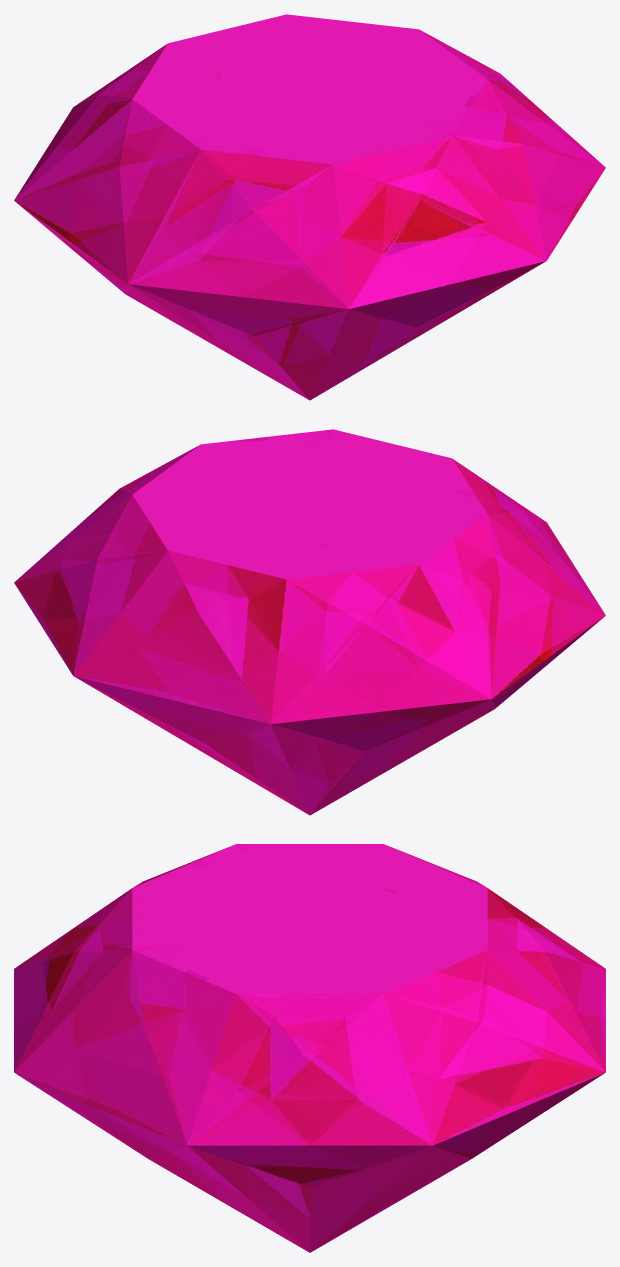
The model's file is gema_ED_02.fbx.
3 views of the same model, one above another, from view 1: azimuth 30°, elevation 25°; view 2: azimuth 150°, elevation 25°; view 3: azimuth 270°, elevation 25° (orthographic). The views are drawn at different scales.
Visible parts, largest first — view 1: Pink; view 2: Pink; view 3: Pink.
Part boxes in pixels (x1,y1,x2,y2): Pink: [14, 14, 605, 400]; Pink: [14, 429, 605, 815]; Pink: [14, 844, 605, 1252].
Size of the model in its own units: 1.85 by 1.15 by 1.85.
Materials: 1 (1 with a texture image).
